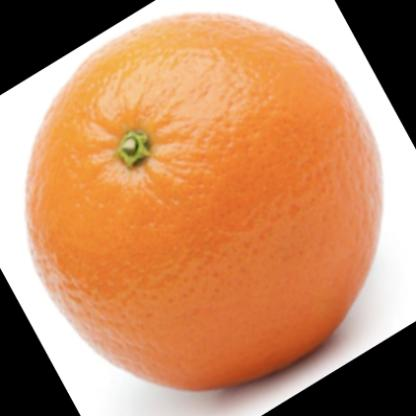fresh: (31, 11, 384, 391)
